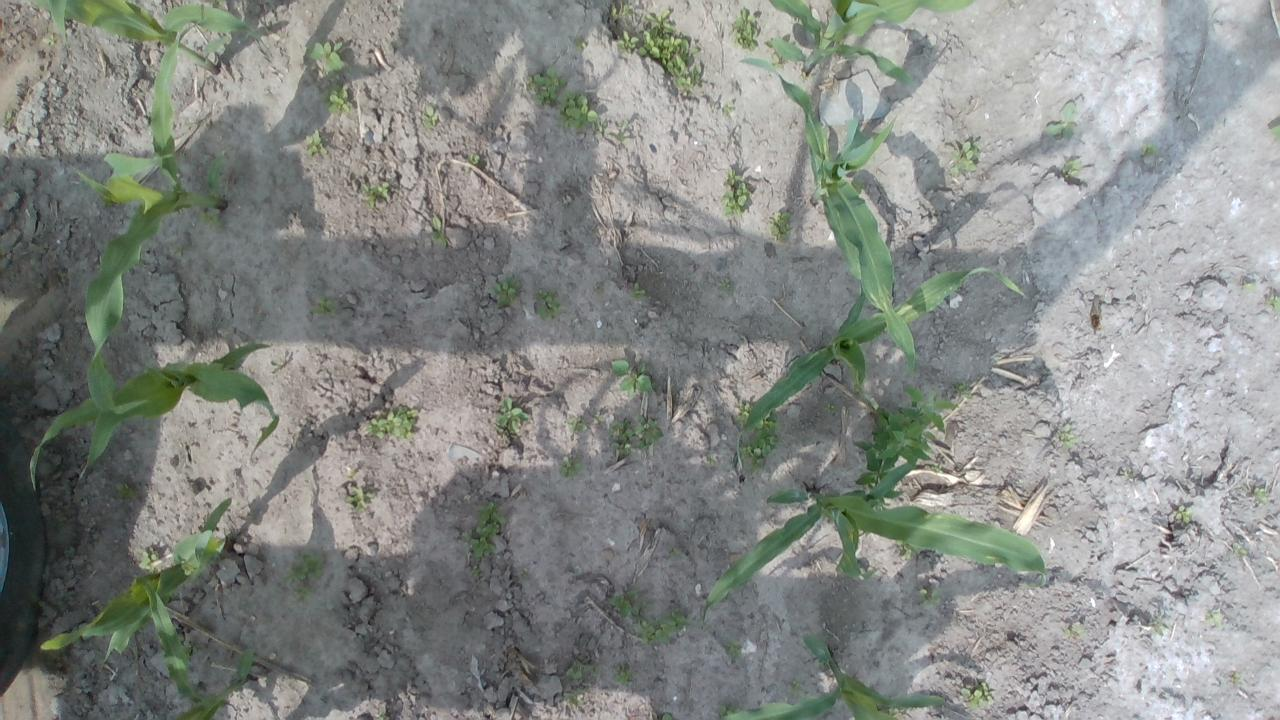Maize: (76, 20, 228, 481), (731, 264, 1027, 464), (739, 52, 920, 378), (701, 461, 1047, 626), (28, 342, 282, 489), (40, 498, 228, 667), (710, 632, 944, 720), (768, 0, 978, 88), (27, 0, 259, 77), (142, 579, 255, 720)
Weeds: (853, 384, 957, 510), (638, 9, 703, 92), (736, 402, 780, 475), (463, 503, 508, 558), (630, 608, 691, 646), (282, 550, 326, 602), (608, 415, 664, 454), (364, 405, 418, 441), (556, 90, 597, 133), (610, 359, 654, 397), (720, 167, 753, 217), (524, 68, 566, 106), (306, 40, 346, 78), (492, 396, 530, 435), (1044, 98, 1079, 140), (608, 590, 654, 618), (732, 8, 758, 51), (951, 140, 982, 176), (491, 274, 522, 308), (960, 682, 995, 710), (534, 288, 562, 320), (564, 657, 602, 680), (320, 84, 351, 112), (360, 182, 390, 209), (346, 486, 374, 514), (309, 296, 342, 319), (768, 211, 792, 242), (1054, 424, 1080, 450), (304, 129, 328, 156), (198, 208, 224, 232), (616, 28, 638, 54), (429, 217, 447, 248), (610, 0, 634, 22), (610, 121, 632, 145), (178, 636, 201, 658), (138, 548, 158, 573), (560, 456, 581, 478), (1061, 156, 1082, 178), (614, 664, 635, 685), (115, 481, 136, 502), (1152, 616, 1172, 638), (421, 105, 439, 129), (717, 701, 742, 718), (786, 677, 806, 698), (563, 688, 586, 706), (919, 588, 940, 607), (1063, 622, 1086, 638), (566, 416, 586, 434), (724, 639, 742, 658), (895, 538, 911, 559), (956, 380, 972, 400), (1174, 506, 1192, 523), (630, 282, 647, 300), (1141, 142, 1160, 157), (717, 277, 733, 293), (1206, 610, 1222, 626), (1266, 294, 1280, 312), (770, 52, 785, 68), (1254, 487, 1268, 504), (1230, 542, 1246, 556), (723, 100, 737, 115), (170, 242, 187, 254), (593, 118, 607, 132), (1270, 121, 1280, 140), (573, 38, 586, 52), (100, 197, 114, 209), (470, 565, 482, 579), (824, 403, 838, 414), (1242, 282, 1256, 293), (886, 706, 901, 716), (593, 283, 605, 295), (668, 546, 679, 558), (704, 456, 716, 467), (42, 38, 56, 47), (468, 154, 480, 164), (660, 713, 676, 720), (820, 660, 830, 670), (3, 112, 12, 121), (594, 413, 604, 421), (517, 570, 527, 578), (764, 40, 774, 47)
